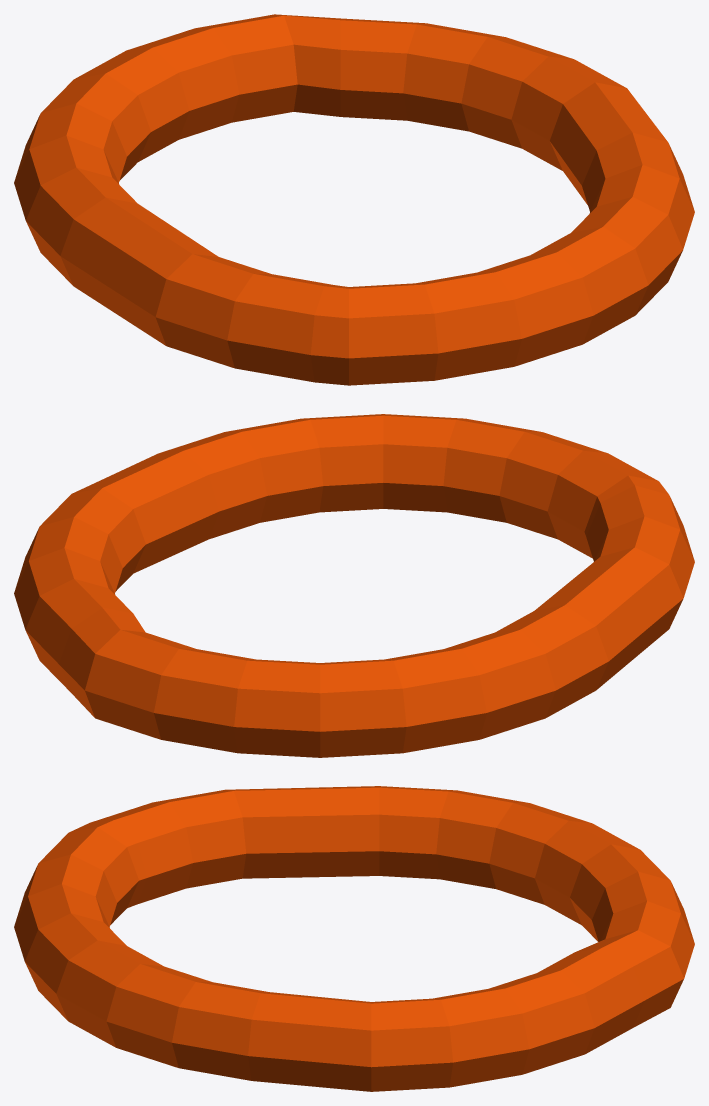
The model's file is SM_Lastik.fbx.
3 renders of one model, top to bottom at view 1: azimuth 30°, elevation 25°; view 2: azimuth 150°, elevation 25°; view 3: azimuth 270°, elevation 25°, orthographic. The views are drawn at different scales.
Visible parts, largest first — view 1: Torus.001; view 2: Torus.001; view 3: Torus.001.
Boxes of the visible parts, bbox=[...] form: Torus.001: bbox=[14, 14, 694, 385]; Torus.001: bbox=[14, 414, 694, 757]; Torus.001: bbox=[14, 786, 694, 1091].
Size of the model in its own units: 63.41 by 10 by 71.17.
